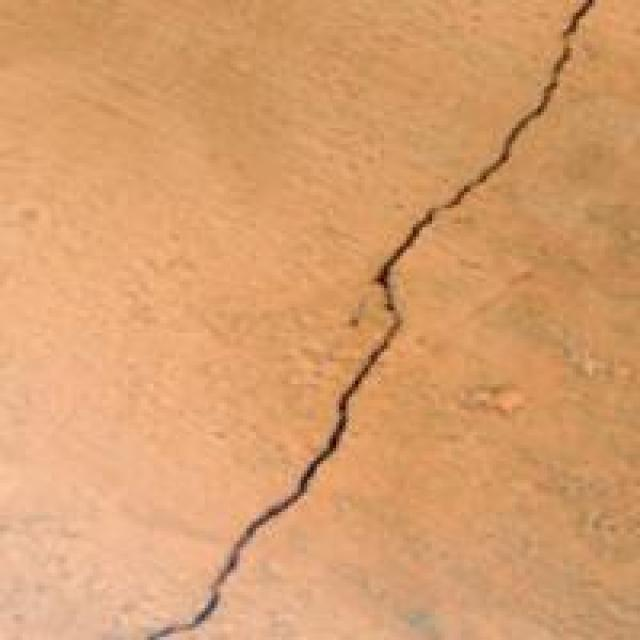crack: (138, 0, 604, 637)
